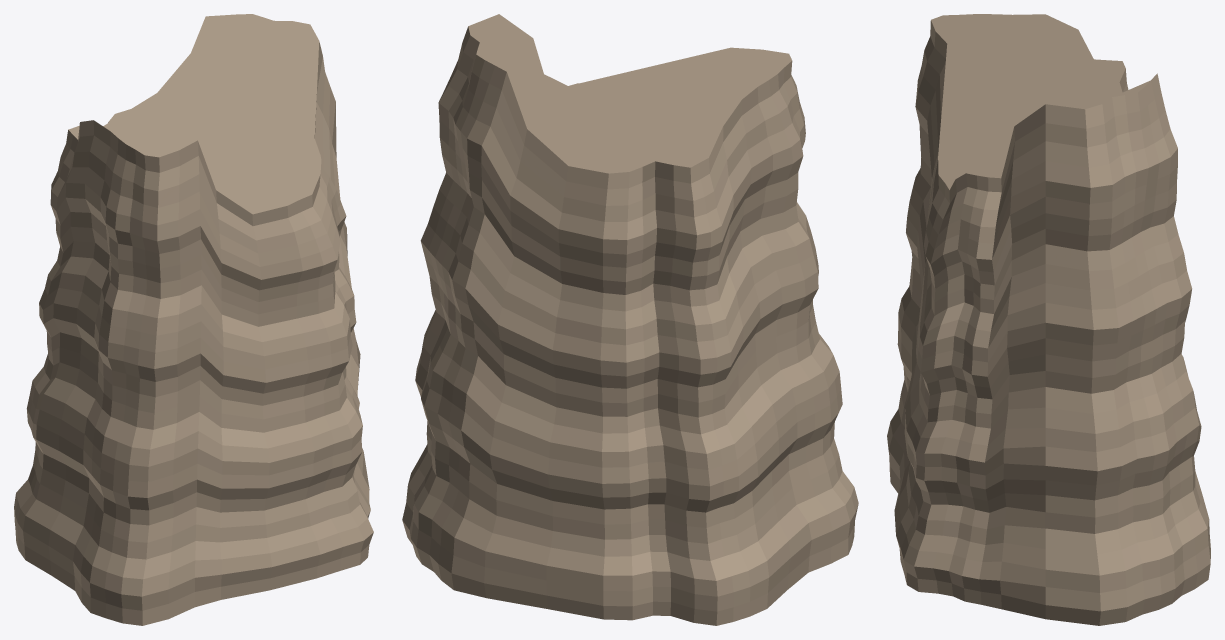
File: cliff0.glb
3 views of the same model, side by side, from view 1: azimuth 30°, elevation 25°; view 2: azimuth 150°, elevation 25°; view 3: azimuth 270°, elevation 25° (orthographic). The views are drawn at different scales.
Visible parts, largest first — view 1: cliff0_cliff; view 2: cliff0_cliff; view 3: cliff0_cliff.
Boxes of the visible parts, bbox=[...] form: cliff0_cliff: bbox=[14, 14, 373, 625]; cliff0_cliff: bbox=[402, 14, 858, 625]; cliff0_cliff: bbox=[887, 14, 1210, 625].
Size of the model in its own units: 50.49 by 67.2 by 39.96.
